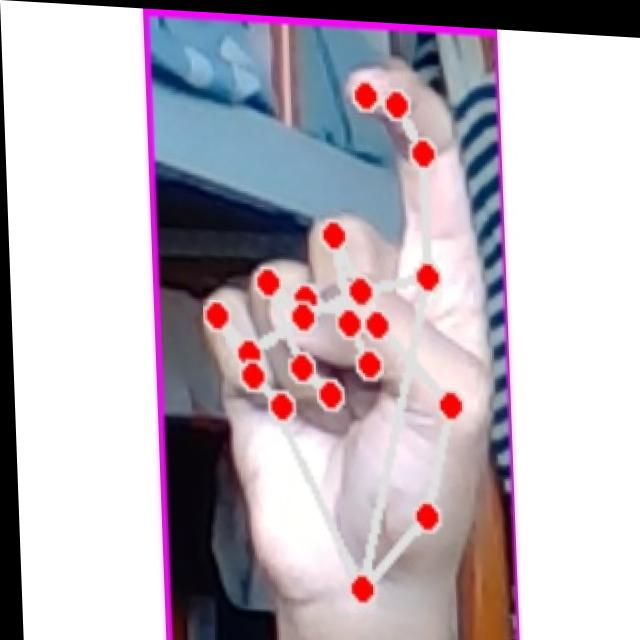X: (192, 34, 499, 611)
